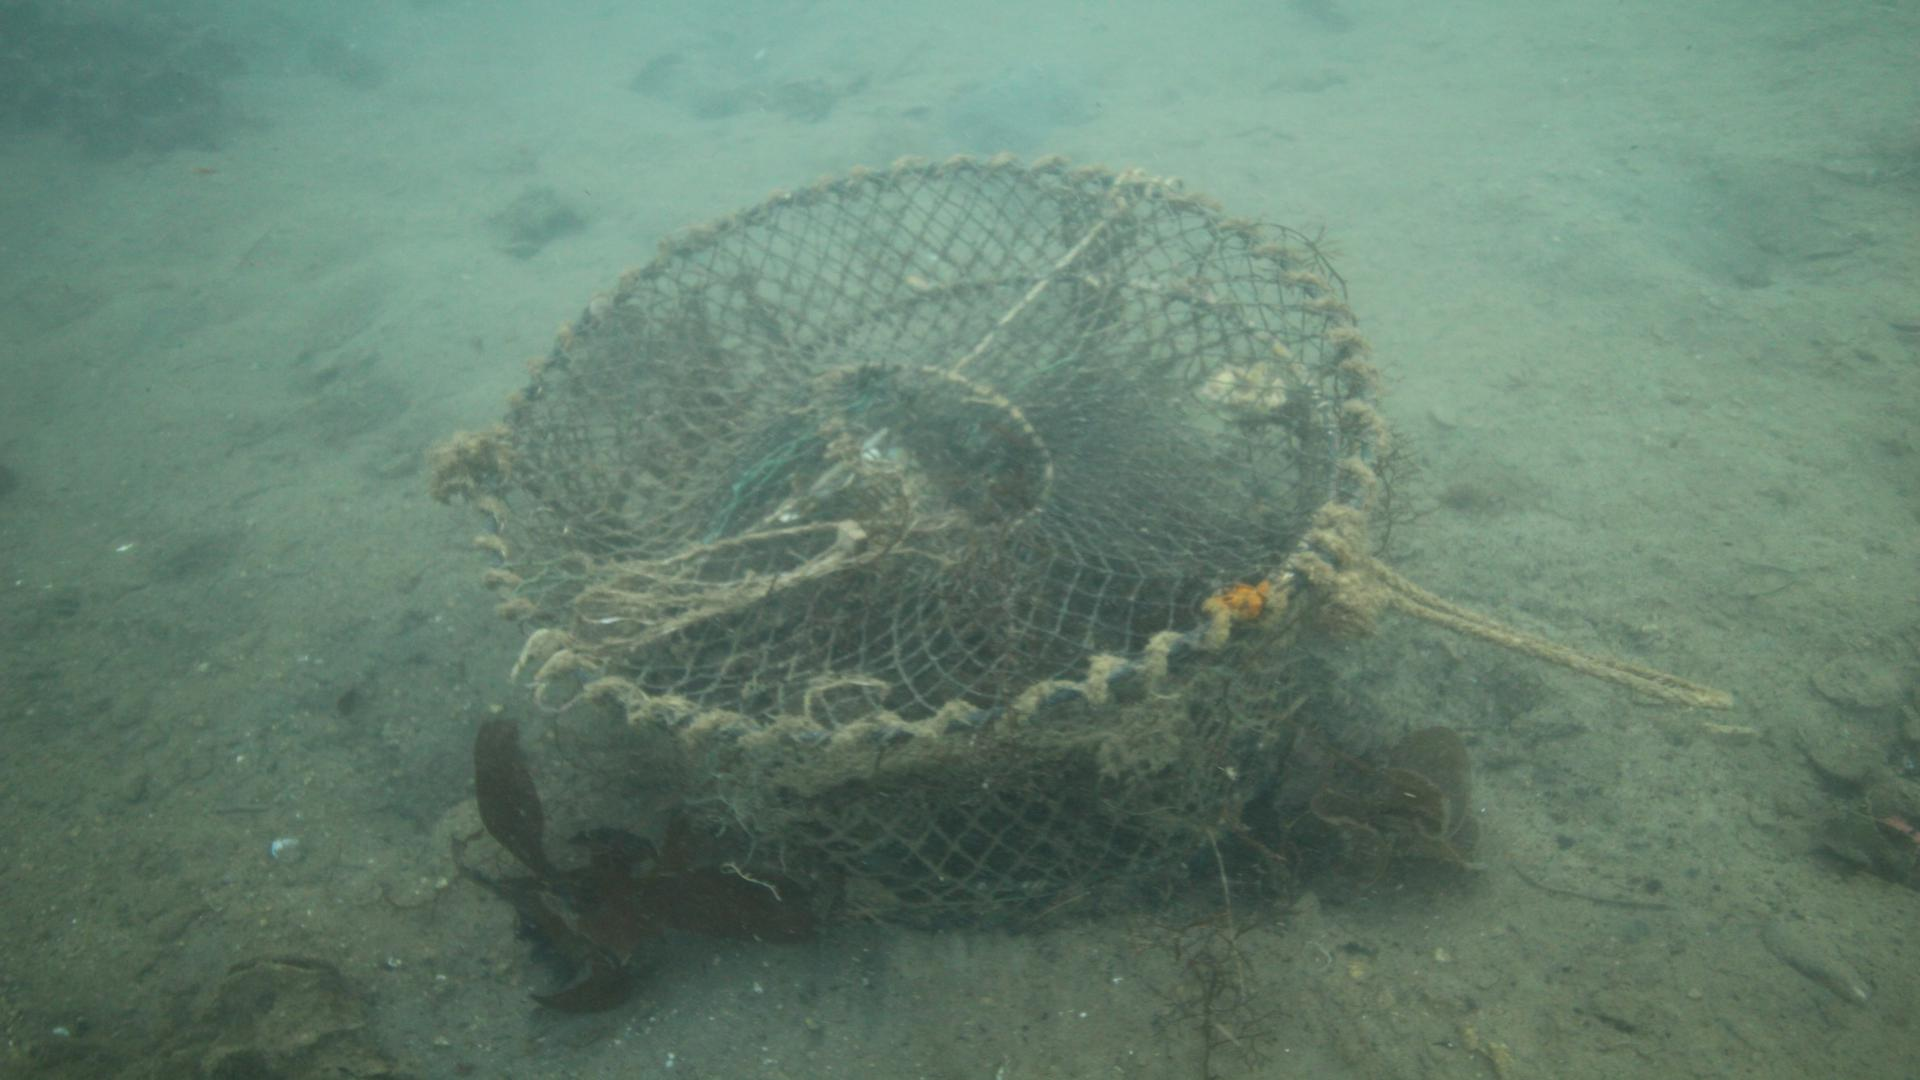bundle of ropes: (1352, 549, 1737, 713)
circular fish trap: (471, 152, 1387, 928)
